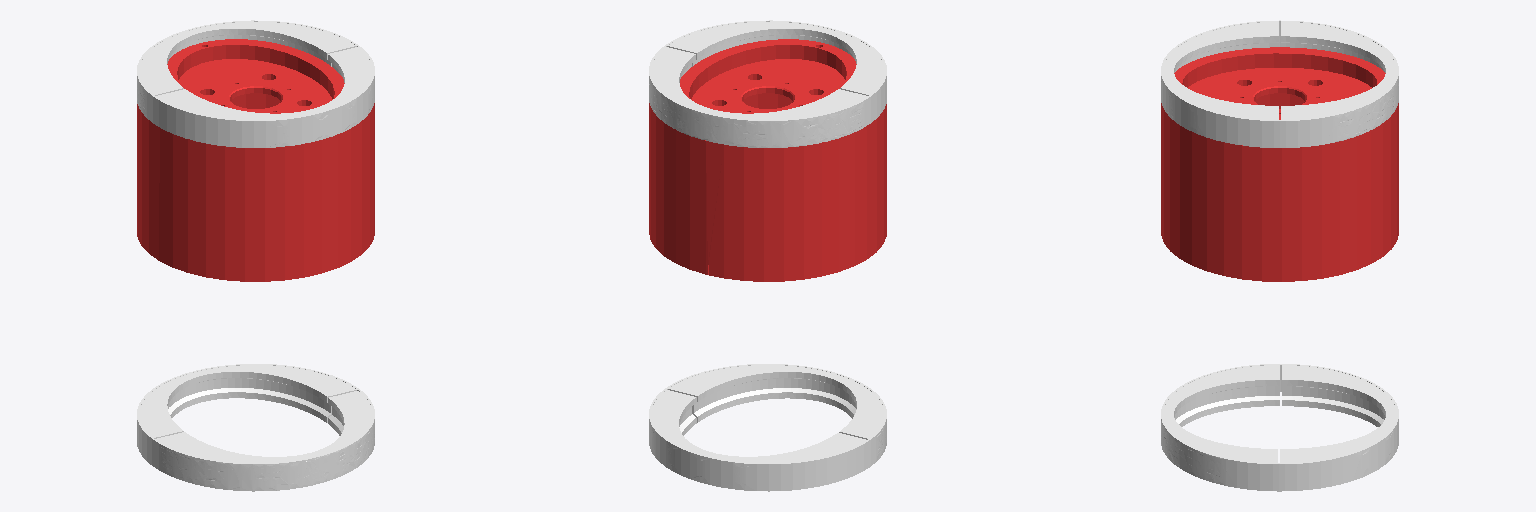
URDF robot description (I_module):
<?xml version="1.0" encoding="utf-8"?>
<!-- This URDF was automatically created by SolidWorks to URDF Exporter! Originally created by [author] ([email redacted]) 
     Commit Version: 1.5.1-0-g916b5db  Build Version: 1.5.7152.31018
     For more information, please see http://wiki.ros.org/sw_urdf_exporter -->
<robot
  name="I_module">
  <link
    name="VI_InLink_4th">
    <inertial>
      <origin
        xyz="0.00010582 -0.00010564 0.078074"
        rpy="0 0 0" />
      <mass
        value="0.5" />
      <inertia
        ixx="0.0020854"
        ixy="1.8653E-06"
        ixz="3.8481E-07"
        iyy="0.002097"
        iyz="-3.6471E-07"
        izz="0.0010917" />
    </inertial>
    <visual>
      <origin
        xyz="0 0 0"
        rpy="0 0 0" />
      <geometry>
        <mesh
          filename="package://I_module/meshes/VI_InLink_4th.STL" />
      </geometry>
      <material
        name="">
        <color
          rgba="1 1 1 1" />
      </material>
    </visual>
    <collision>
      <origin
        xyz="0 0 0"
        rpy="0 0 0" />
      <geometry>
        <mesh
          filename="package://I_module/meshes/VI_InLink_4th.STL" />
      </geometry>
    </collision>
  </link>
  <link
    name="I_InLInk_4th">
    <inertial>
      <origin
        xyz="0.00017879 -0.00017813 0.047968"
        rpy="0 0 0" />
      <mass
        value="1.2" />
      <inertia
        ixx="0.00057835"
        ixy="1.8161E-06"
        ixz="-1.3137E-06"
        iyy="0.00058218"
        iyz="1.324E-06"
        izz="0.00066749" />
    </inertial>
    <visual>
      <origin
        xyz="0 0 0"
        rpy="0 0 0" />
      <geometry>
        <mesh
          filename="package://I_module/meshes/I_InLInk_4th.STL" />
      </geometry>
      <material
        name="">
        <color
          rgba="0.96863 0.25882 0.25882 1" />
      </material>
    </visual>
    <collision>
      <origin
        xyz="0 0 0"
        rpy="0 0 0" />
      <geometry>
        <mesh
          filename="package://I_module/meshes/I_InLInk_4th.STL" />
      </geometry>
    </collision>
  </link>
  <joint
    name="VI_InLink"
    type="fixed">
    <origin
      xyz="0 0 0"
      rpy="0 0 0" />
    <parent
      link="VI_InLink_4th" />
    <child
      link="I_InLInk_4th" />
    <axis
      xyz="0 0 0" />
  </joint>
  <link
    name="I_OutLink_4th">
    <inertial>
      <origin
        xyz="-0.046419 2.0299E-06 3.8153E-07"
        rpy="0 0 0" />
      <mass
        value="1" />
      <inertia
        ixx="0.00030154"
        ixy="1.7546E-09"
        ixz="-9.4475E-10"
        iyy="0.00021262"
        iyz="-2.5116E-06"
        izz="0.0002126" />
    </inertial>
    <visual>
      <origin
        xyz="0 0 0"
        rpy="0 0 0" />
      <geometry>
        <mesh
          filename="package://I_module/meshes/I_OutLink_4th.STL" />
      </geometry>
      <material
        name="">
        <color
          rgba="0.96863 0.25882 0.25882 1" />
      </material>
    </visual>
    <collision>
      <origin
        xyz="0 0 0"
        rpy="0 0 0" />
      <geometry>
        <mesh
          filename="package://I_module/meshes/I_OutLink_4th.STL" />
      </geometry>
    </collision>
  </link>
  <joint
    name="I_Joint"
    type="continuous">
    <origin
      xyz="0 0 0.091"
      rpy="2.3579 1.5708 0" />
    <parent
      link="I_InLInk_4th" />
    <child
      link="I_OutLink_4th" />
    <axis
      xyz="-1 0 0" />
    <limit
      lower="-3.14"
      upper="3.14"
      effort="0"
      velocity="0" />
  </joint>
  <link
    name="VI_OutLink_4th">
    <inertial>
      <origin
        xyz="0.00010582 -0.00010564 -0.081426"
        rpy="0 0 0" />
      <mass
        value="0.5" />
      <inertia
        ixx="0.0020854"
        ixy="1.8653E-06"
        ixz="3.8481E-07"
        iyy="0.002097"
        iyz="-3.6471E-07"
        izz="0.0010917" />
    </inertial>
    <visual>
      <origin
        xyz="0 0 0"
        rpy="0 0 0" />
      <geometry>
        <mesh
          filename="package://I_module/meshes/VI_OutLink_4th.STL" />
      </geometry>
      <material
        name="">
        <color
          rgba="1 1 1 1" />
      </material>
    </visual>
    <collision>
      <origin
        xyz="0 0 0"
        rpy="0 0 0" />
      <geometry>
        <mesh
          filename="package://I_module/meshes/VI_OutLink_4th.STL" />
      </geometry>
    </collision>
  </link>
  <joint
    name="VI_OutJoint"
    type="fixed">
    <origin
      xyz="-0.0685 0 0"
      rpy="-1.5708 0.78714 1.5708" />
    <parent
      link="I_OutLink_4th" />
    <child
      link="VI_OutLink_4th" />
    <axis
      xyz="0 0 0" />
  </joint>
</robot>

--- Facts derived from the render (not from the file) ---
The picture shows the robot from 3 angles, left to right: view 1: azimuth 30°, elevation 25°; view 2: azimuth 150°, elevation 25°; view 3: azimuth 270°, elevation 25°; orthographic projection.
Model I_module with 4 links and 3 joints (1 continuous, 2 fixed), rooted at VI_InLink_4th, posed every joint at zero.
Links seen in each view (by area): view 1: I_OutLink_4th, VI_InLink_4th, VI_OutLink_4th; view 2: I_OutLink_4th, VI_InLink_4th, VI_OutLink_4th; view 3: I_OutLink_4th, VI_InLink_4th, VI_OutLink_4th.
Boxes of the visible links, box(x1,y1,x2,y2) form: I_OutLink_4th: box(137, 39, 374, 281); VI_InLink_4th: box(137, 364, 374, 491); VI_OutLink_4th: box(137, 20, 374, 147); I_OutLink_4th: box(649, 39, 886, 281); VI_InLink_4th: box(649, 364, 886, 491); VI_OutLink_4th: box(649, 20, 886, 147); I_OutLink_4th: box(1161, 47, 1398, 281); VI_InLink_4th: box(1161, 364, 1398, 491); VI_OutLink_4th: box(1161, 20, 1398, 147).
Size in the robot's own frame: 0.1 by 0.1 by 0.1713 metres.
Meshes: 4 distinct files referenced, 3 mesh visuals loaded (3 binary STL); not drawn: 1 (reference not matched to a file when rendering).